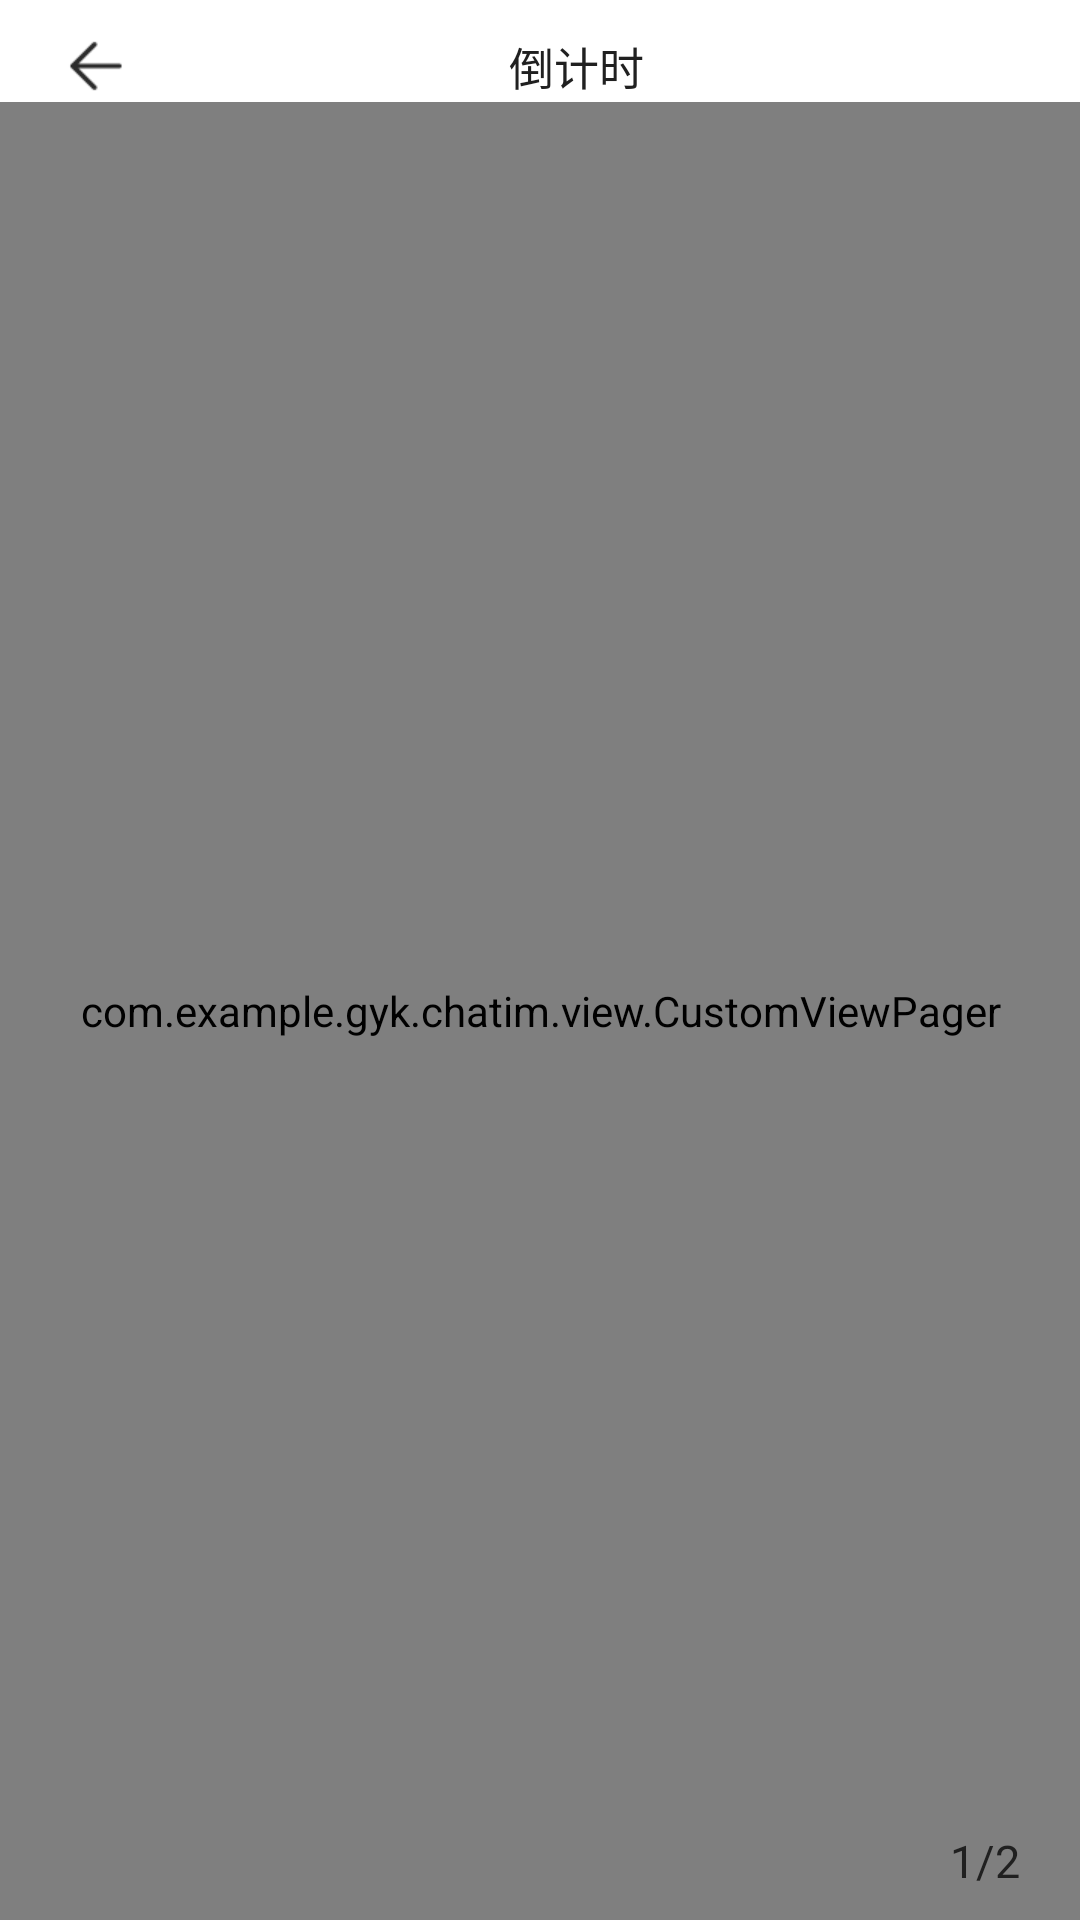

Icons on this 1080px x 1920px Android screen, each with its box as (x1, y1, x2, y2):
back: (70, 41, 122, 91)
